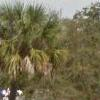Palm tree: (2, 7, 68, 99)
